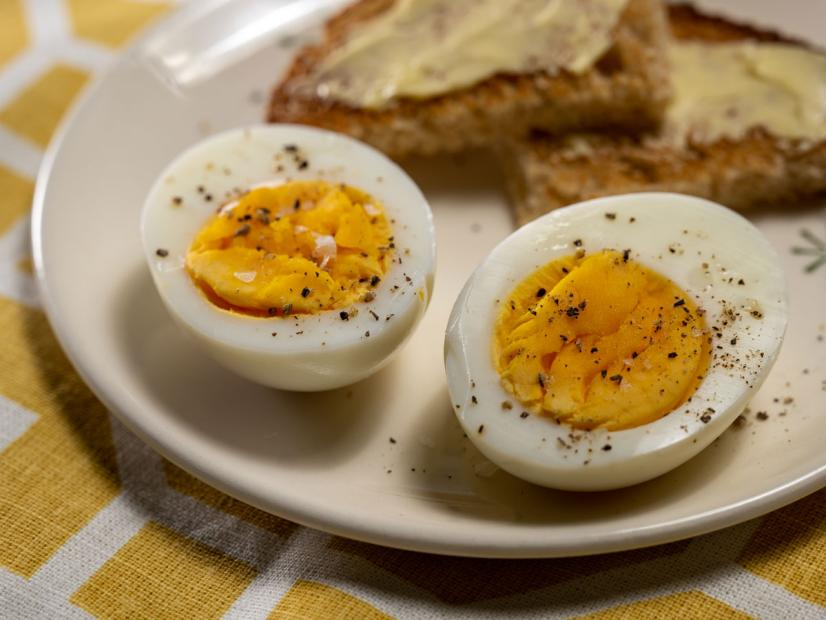egg: (454, 168, 788, 497), (148, 115, 445, 401)
